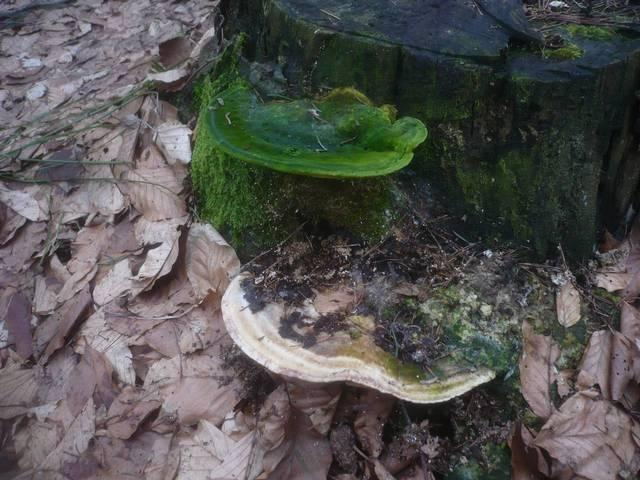Non-edible Mushroom: (219, 236, 500, 406)
